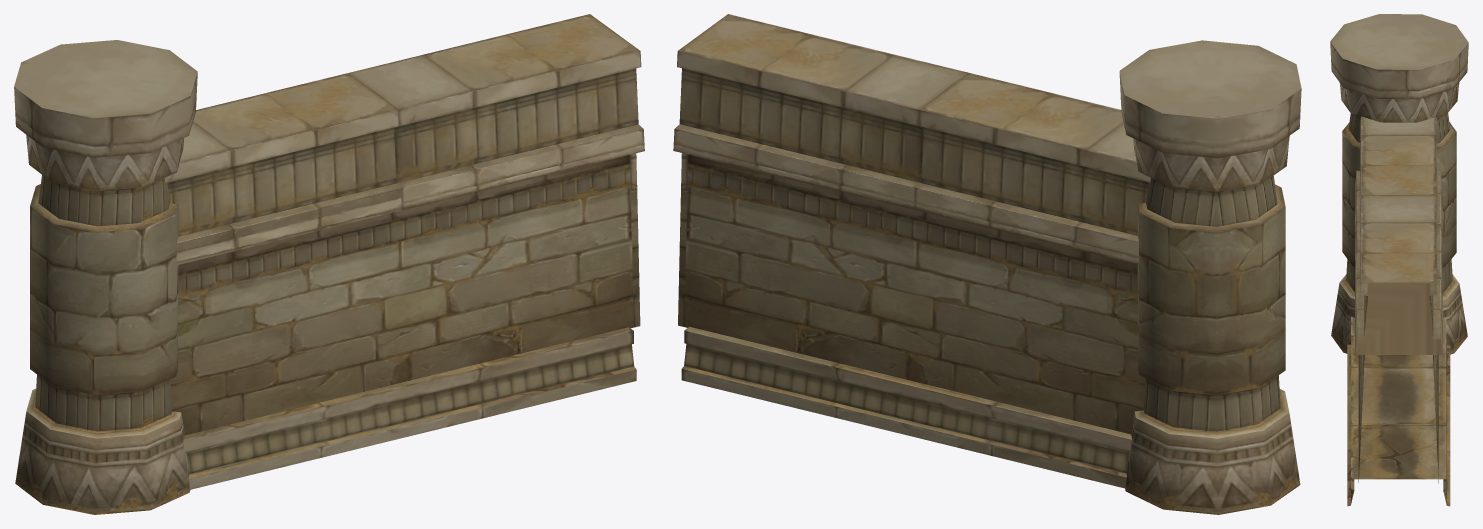
Rendered from lv7_qiang_5.FBX.
The picture shows the model from 3 angles, left to right: view 1: azimuth 30°, elevation 25°; view 2: azimuth 150°, elevation 25°; view 3: azimuth 270°, elevation 25°; orthographic projection. The views are drawn at different scales.
Visible parts, largest first — view 1: lv7_qiang_5; view 2: lv7_qiang_5; view 3: lv7_qiang_5.
Part boxes in pixels (x1,y1,x2,y2): lv7_qiang_5: (14,14,644,514); lv7_qiang_5: (673,14,1301,514); lv7_qiang_5: (1330,14,1468,506).
Bounding box in the file's own units: 633 × 409 × 175.
